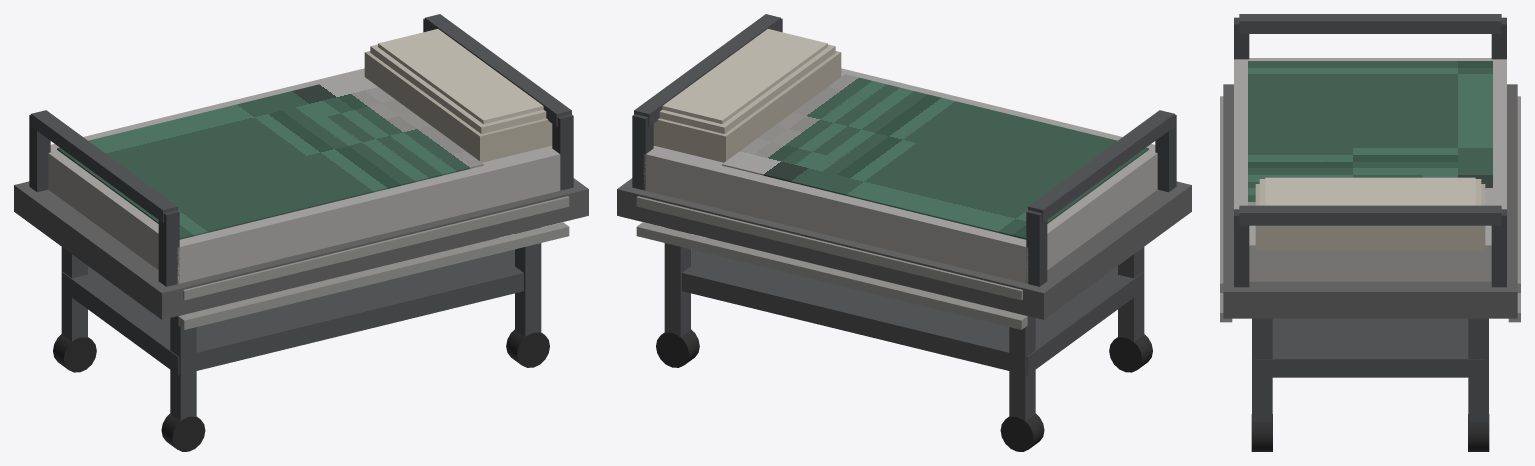
The model's file is CMU3DRMCRollerBedHospitalSheet.glb.
3 renders of one model, left to right at view 1: azimuth 30°, elevation 25°; view 2: azimuth 150°, elevation 25°; view 3: azimuth 270°, elevation 25°, orthographic.
Visible parts, largest first — view 1: Sheet source pixels, mattress, lower carriage, trolley deck, lowered side rail (×2), pillow face, end handle (×2), caster upright (×3), pillow, end handle post (×3), caster wheel (×3), pillow upper cushion; view 2: Sheet source pixels, mattress, lower carriage, trolley deck, lowered side rail (×2), pillow face, end handle (×2), caster upright (×3), pillow, end handle post (×3), caster wheel (×3), pillow upper cushion; view 3: Sheet source pixels, trolley deck, mattress, lower carriage, end handle (×2), pillow, pillow face, caster upright (×2), end handle post (×4), lowered side rail (×2), caster wheel (×2), pillow upper cushion.
Boxes of the visible parts, x1,y1,x2,y2 form: Sheet source pixels: (57,74,483,239); mattress: (48,68,560,283); lower carriage: (62,238,523,375); trolley deck: (14,178,588,319); lowered side rail (×2): (178,196,569,329); pillow face: (378,29,543,124); end handle (×2): (31,14,571,222); caster upright (×3): (61,228,541,420); pillow: (364,51,552,162); end handle post (×3): (29,114,573,286); caster wheel (×3): (53,329,549,451); pillow upper cushion: (370,44,546,133); Sheet source pixels: (722,74,1148,239); mattress: (643,68,1157,283); lower carriage: (682,238,1143,375); trolley deck: (617,178,1191,319); lowered side rail (×2): (636,196,1027,329); pillow face: (662,29,827,124); end handle (×2): (634,14,1174,222); caster upright (×3): (664,228,1144,420); pillow: (653,51,841,162); end handle post (×3): (632,114,1176,286); caster wheel (×3): (656,329,1152,451); pillow upper cushion: (659,44,835,133); Sheet source pixels: (1248,61,1492,205); trolley deck: (1223,84,1517,318); mattress: (1234,58,1506,281); lower carriage: (1254,318,1486,377); end handle (×2): (1239,14,1501,225); pillow: (1255,184,1485,251); pillow face: (1265,177,1475,205); caster upright (×2): (1252,318,1488,421); end handle post (×4): (1234,17,1506,287); lowered side rail (×2): (1220,96,1520,292); caster wheel (×2): (1251,414,1489,451); pillow upper cushion: (1259,179,1481,205).
Bounding box in the file's own units: 0.954 × 0.542 × 0.584.
Materials: 10 (1 with a texture image).
